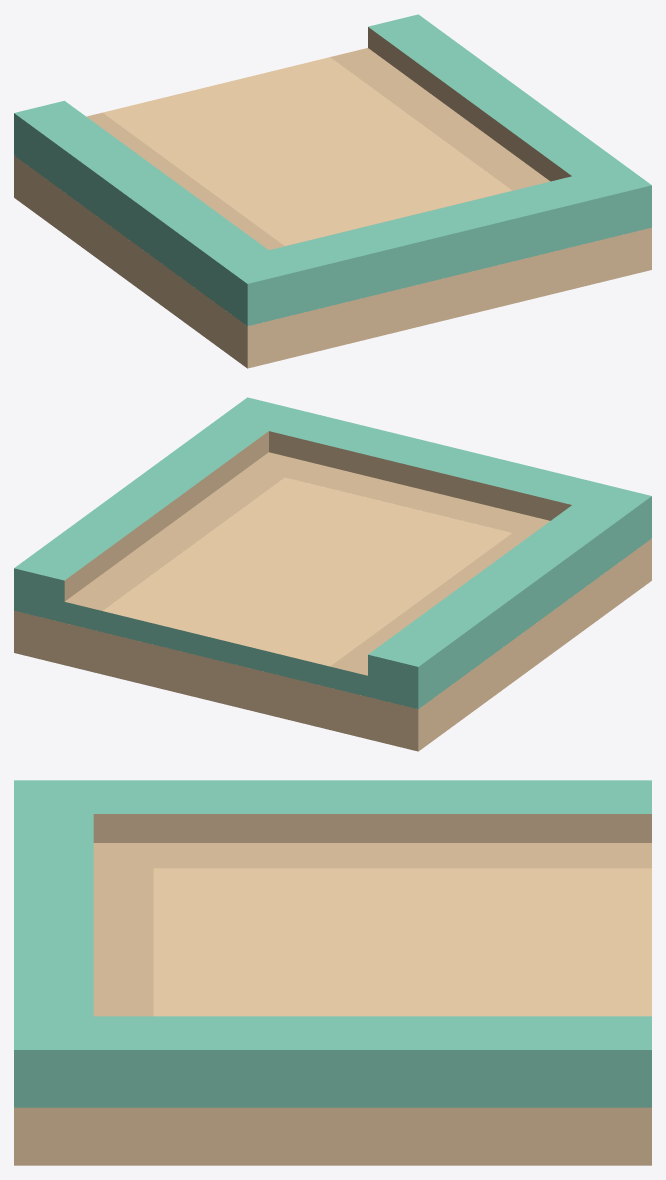
File: tile_end.glb
The picture shows the model from 3 angles, top to bottom: view 1: azimuth 30°, elevation 25°; view 2: azimuth 150°, elevation 25°; view 3: azimuth 270°, elevation 25°; orthographic projection. The views are drawn at different scales.
Visible parts, largest first — view 1: tile_end; view 2: tile_end; view 3: tile_end.
Part boxes in pixels (x1=…): tile_end: x1=14, y1=14, x2=651, y2=368; tile_end: x1=14, y1=397, x2=651, y2=751; tile_end: x1=14, y1=780, x2=651, y2=1165.
Size of the model in its own units: 1 by 0.2 by 1.
